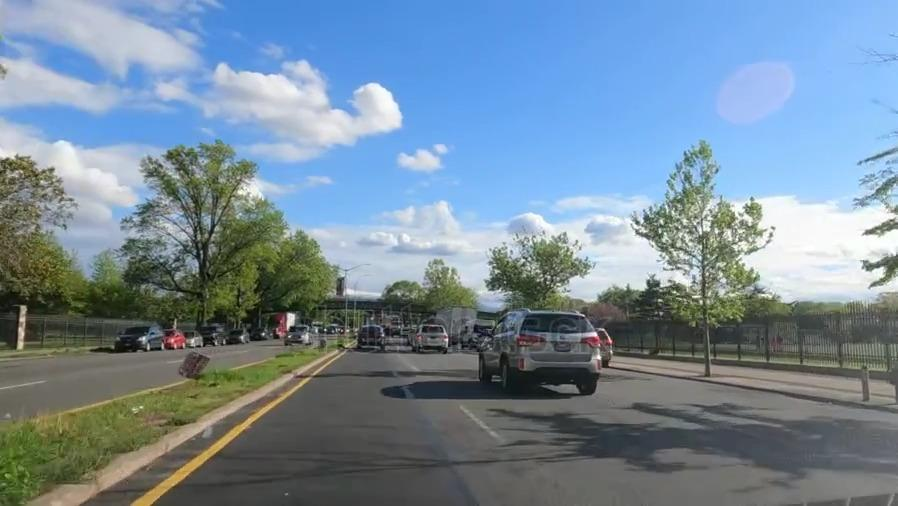car: (484, 312, 598, 394), (108, 324, 162, 353), (410, 321, 449, 359), (357, 323, 392, 350), (595, 327, 618, 363), (285, 321, 313, 346), (198, 327, 227, 347), (159, 327, 183, 350), (184, 329, 198, 350), (230, 330, 246, 347)
